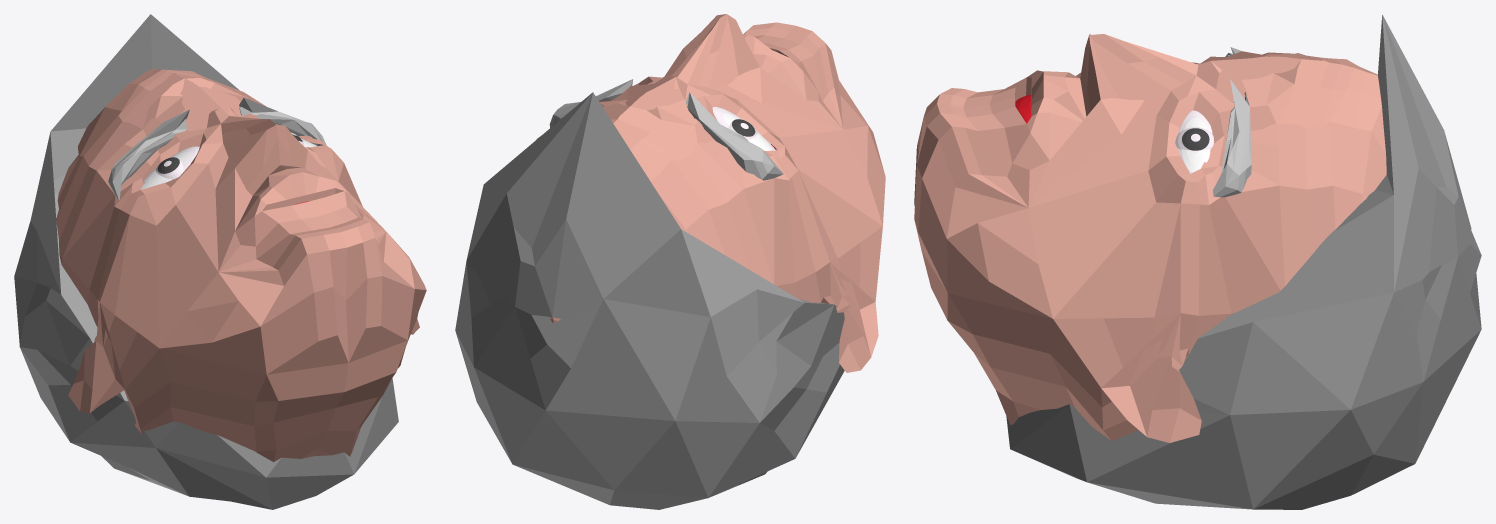
The picture shows the model from 3 angles, left to right: view 1: azimuth 30°, elevation 25°; view 2: azimuth 150°, elevation 25°; view 3: azimuth 270°, elevation 25°; orthographic projection. The views are drawn at different scales.
Parts seen in each view (by area): view 1: Plane.001, Icosphere, Icosphere.002, Sphere.003, Sphere.004; view 2: Icosphere, Plane.001, Icosphere.002, Sphere.003; view 3: Plane.001, Icosphere, Icosphere.002, Sphere.002, Sphere.001.
Part boxes in pixels (<box>): Plane.001: <box>56,68,426,462</box>; Icosphere: <box>14,14,398,509</box>; Icosphere.002: <box>108,97,326,199</box>; Sphere.003: <box>140,146,199,189</box>; Sphere.004: <box>155,157,183,179</box>; Icosphere: <box>455,92,844,509</box>; Plane.001: <box>536,14,885,372</box>; Icosphere.002: <box>549,79,783,180</box>; Sphere.003: <box>712,107,775,150</box>; Plane.001: <box>914,34,1386,442</box>; Icosphere: <box>1006,14,1481,509</box>; Icosphere.002: <box>1212,47,1251,197</box>; Sphere.002: <box>1178,110,1212,173</box>; Sphere.001: <box>1175,127,1214,150</box>.
Bounding box in the file's own units: 3.28 × 3.98 × 4.3.
